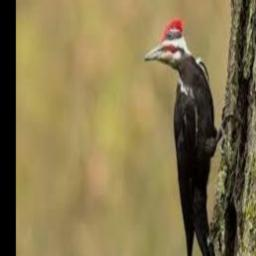Woodpecker: (145, 19, 236, 256)
